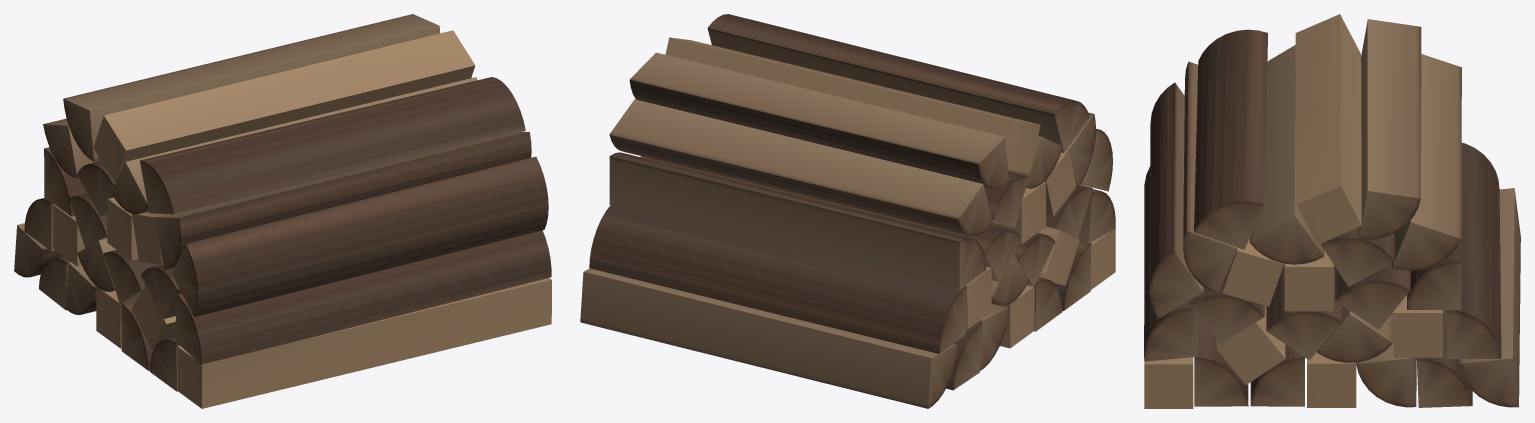
The model's file is firewood_5b9973cd.glb.
3 renders of one model, left to right at view 1: azimuth 30°, elevation 25°; view 2: azimuth 150°, elevation 25°; view 3: azimuth 270°, elevation 25°, orthographic.
Visible parts, largest first — view 1: SM_Firewood_Quadrangle.001_SM_Firewood.001_0; view 2: SM_Firewood_Quadrangle.001_SM_Firewood.001_0; view 3: SM_Firewood_Quadrangle.001_SM_Firewood.001_0.
Boxes of the visible parts, left/top/right/bottom form: SM_Firewood_Quadrangle.001_SM_Firewood.001_0: left=14, top=14, right=551, bottom=408; SM_Firewood_Quadrangle.001_SM_Firewood.001_0: left=580, top=14, right=1115, bottom=408; SM_Firewood_Quadrangle.001_SM_Firewood.001_0: left=1144, top=14, right=1520, bottom=408.
Size of the model in its own units: 0.8271 by 0.5027 by 0.7666.
